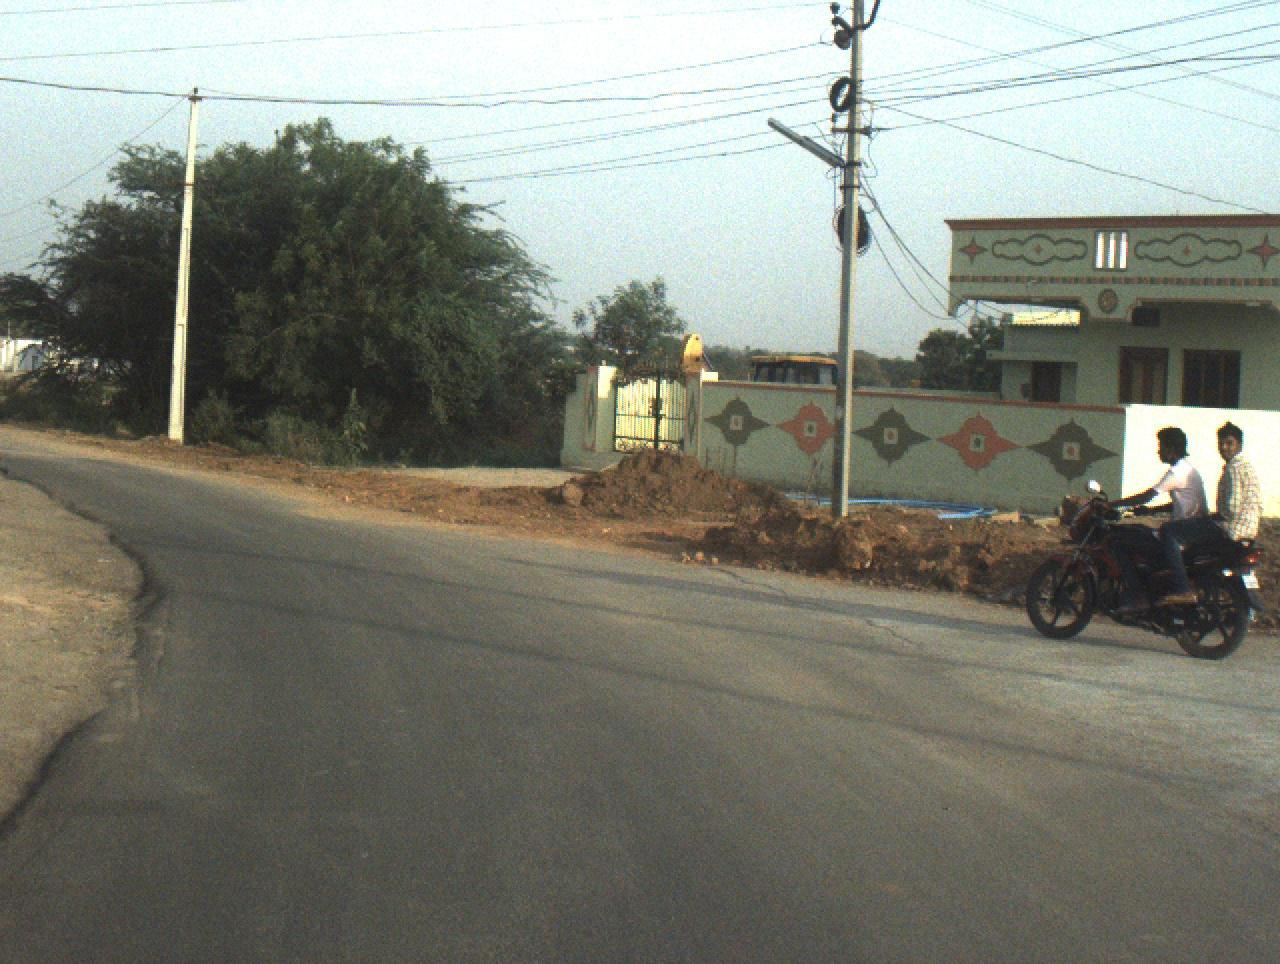off: (10, 11, 1280, 964)
